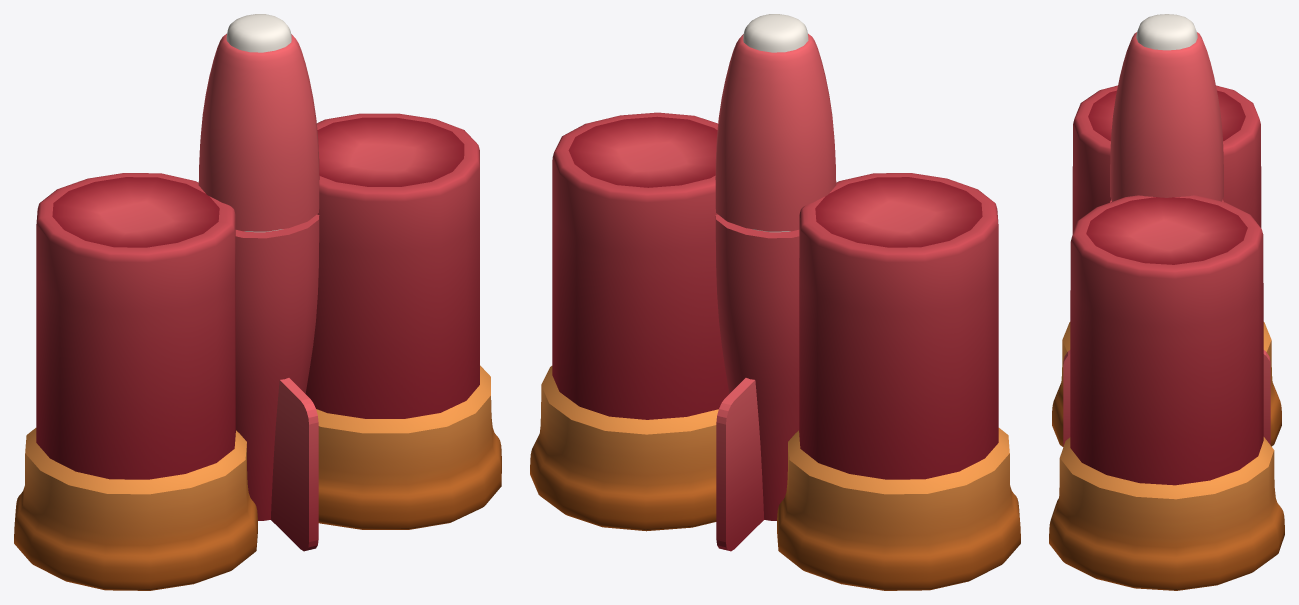
File: buckshot.fbx
The picture shows the model from 3 angles, left to right: view 1: azimuth 30°, elevation 25°; view 2: azimuth 150°, elevation 25°; view 3: azimuth 270°, elevation 25°; orthographic projection. The views are drawn at different scales.
Visible parts, largest first — view 1: Cube.003, Cube, Cube.001; view 2: Cube.003, Cube, Cube.001; view 3: Cube.003, Cube, Cube.001.
Boxes of the visible parts, x1,y1,x2,y2 form: Cube.003: (14,113,501,590); Cube: (198,14,319,520); Cube.001: (270,378,318,551); Cube.003: (530,112,1020,590); Cube: (715,14,836,520); Cube.001: (716,378,764,551); Cube.003: (1049,85,1284,590); Cube: (1110,14,1223,202); Cube.001: (1063,350,1270,446).
Bounding box in the file's own units: 48.46 × 49.95 × 22.73.
